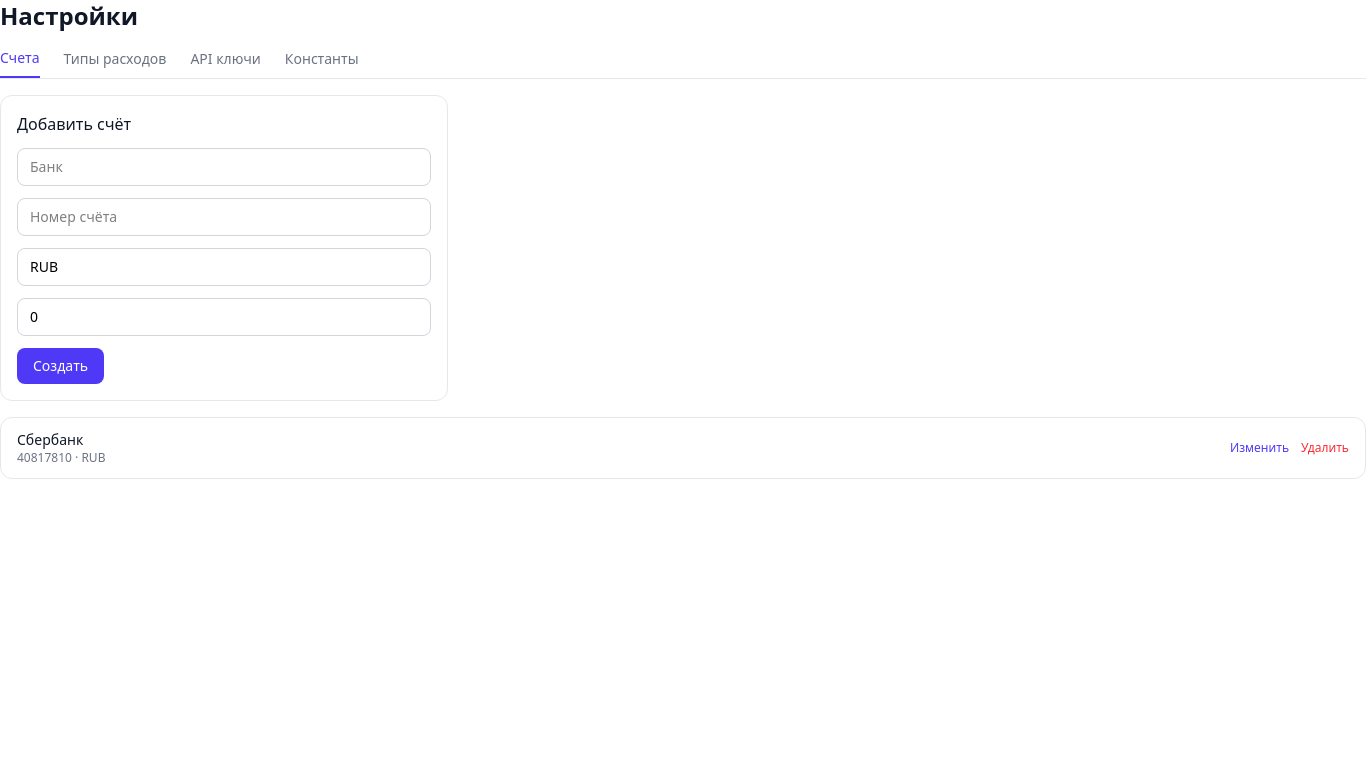
Test: Settings — ExpenseTypesTab edit modal › opens edit modal when Изменить is clicked
The width and height of the screenshot is (1366, 768).
Click the button "Типы расходов" at [115, 63], box [64,48,166,78]
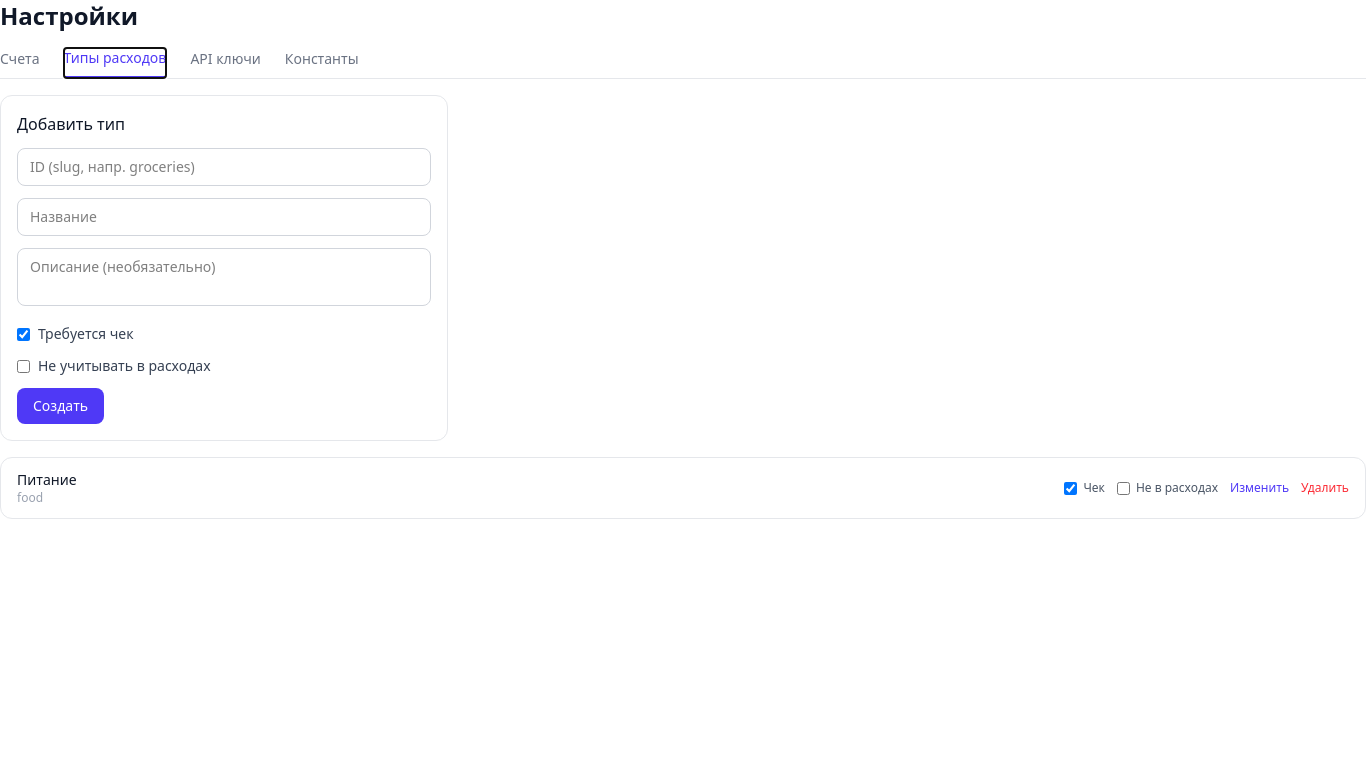
Check: the text "Питание" is shown, box [17,470,77,490]
Click the button "Изменить" at [1260, 488], box [1230,480,1289,496]
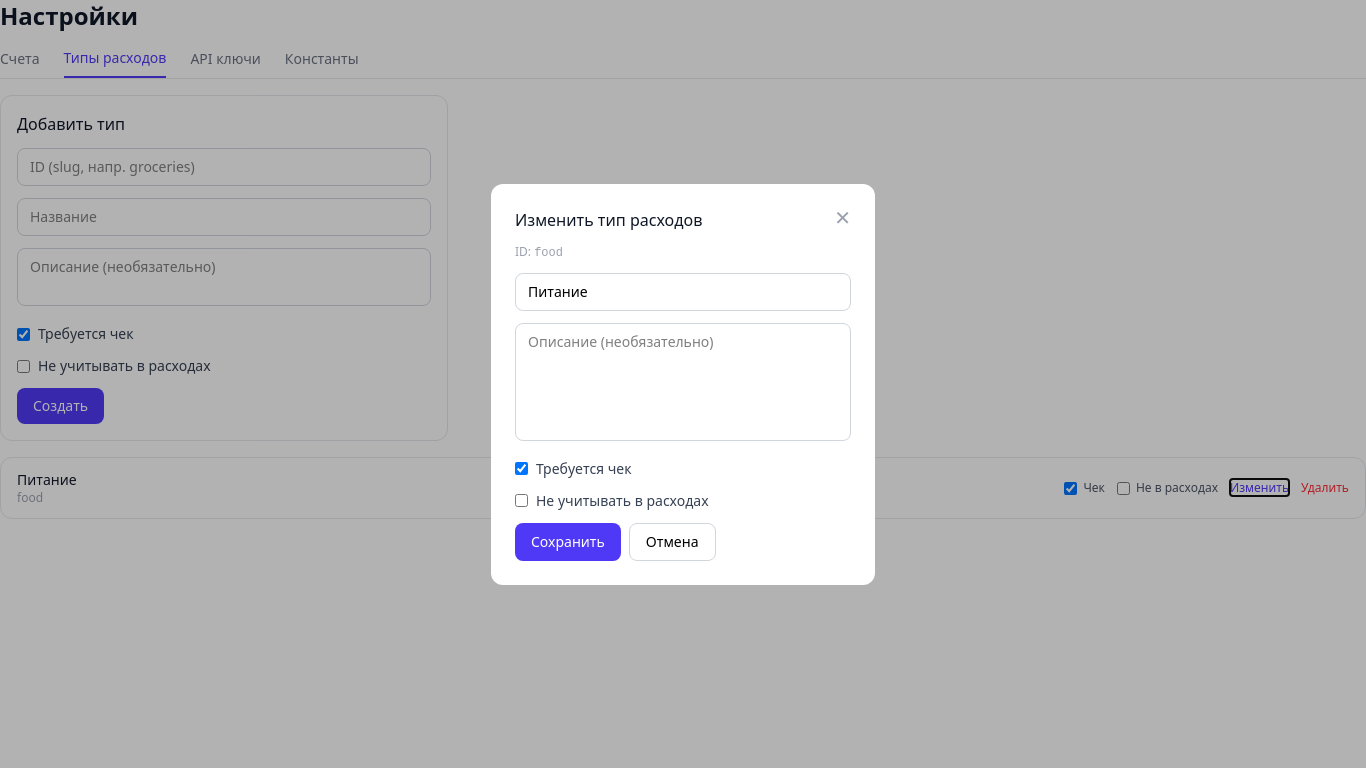
Check: the heading "Изменить тип расходов" is shown, box [515,208,702,232]
Check: the field showing "Питание" is shown, box [515,272,851,310]
